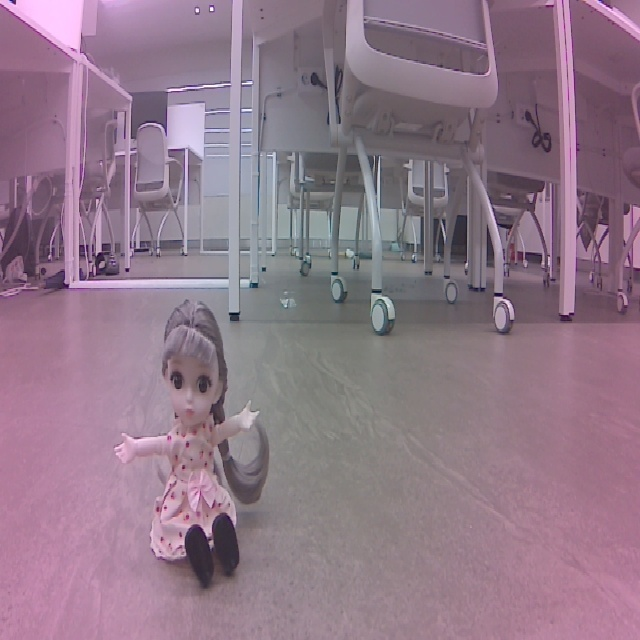장애물: (143, 280, 347, 552)
